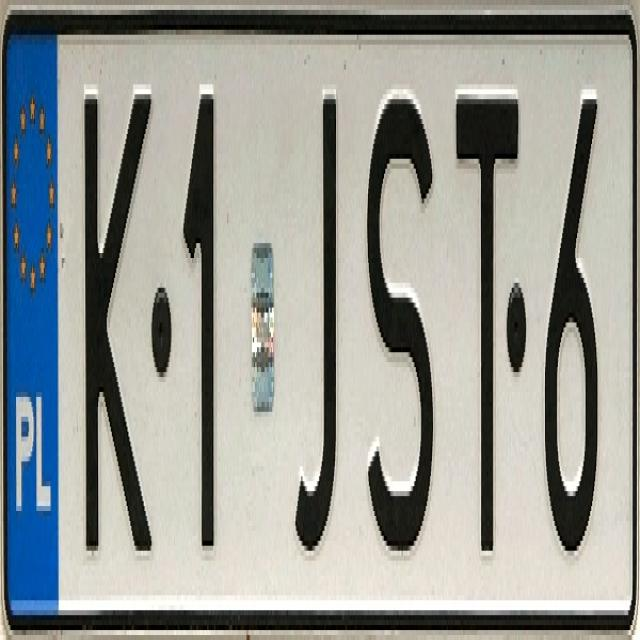pl_license_plate: (4, 25, 630, 615)
